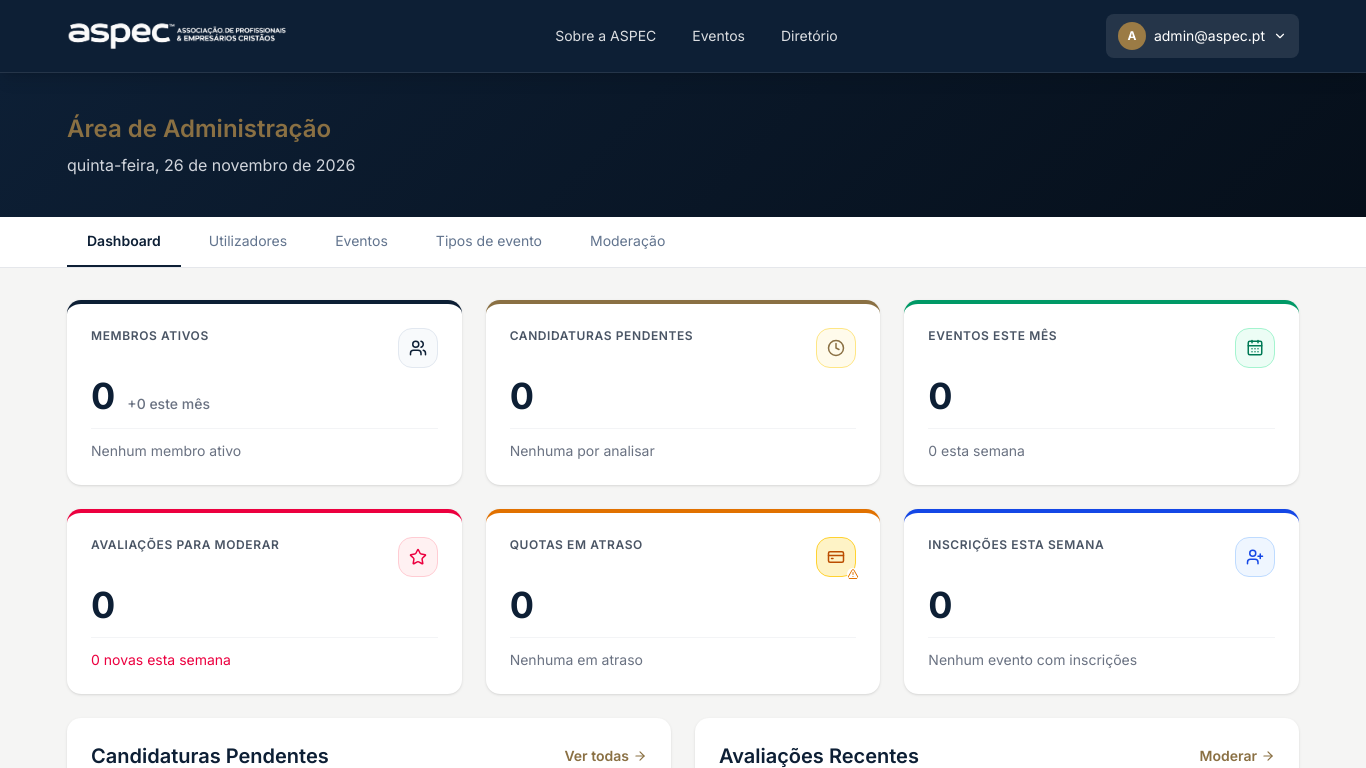
Test case: Rotas de administração › um admin vai do painel para a lista de utilizadores já filtrada nas pendentes
What coordinates should you click on to do the following:
click the link with aria-label "Ver todas as candidaturas pendentes"
I would click on:
 (606, 756)
Its box is [564, 746, 647, 766].
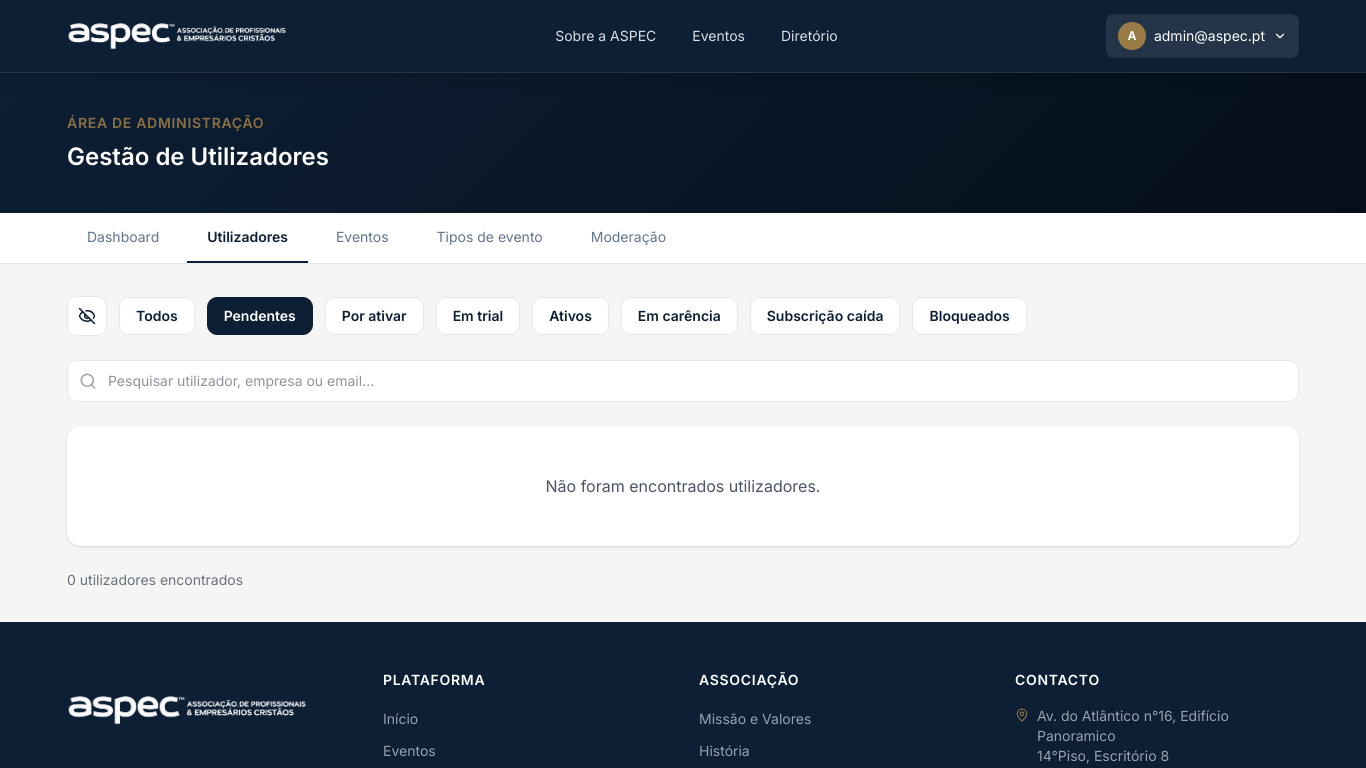
Check: the heading "Gestão de Utilizadores" is shown, box [67, 142, 329, 171]
